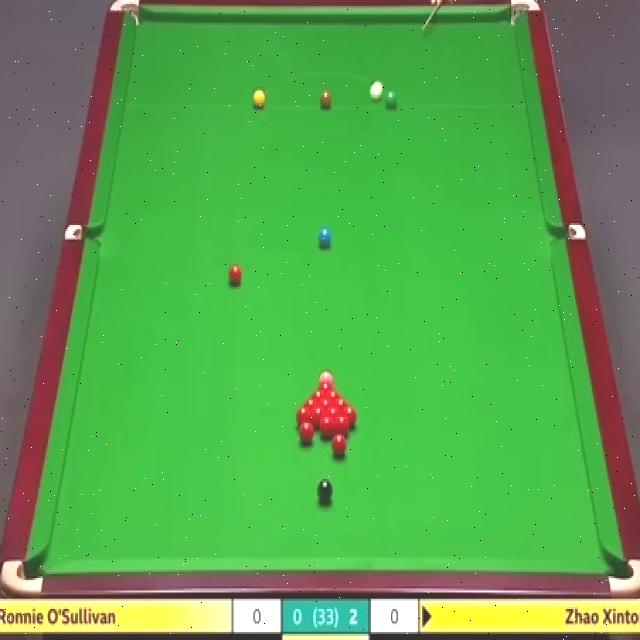black-ball: (317, 479, 332, 502)
blue-ball: (318, 226, 332, 247)
brown-ball: (319, 87, 333, 111)
green-ball: (383, 88, 398, 110)
pink-ball: (318, 370, 336, 384)
red-ball: (300, 421, 315, 443), (332, 434, 347, 456), (228, 265, 242, 287), (335, 397, 348, 420), (336, 415, 349, 438), (343, 404, 357, 424), (296, 408, 311, 426), (312, 407, 325, 427), (320, 417, 333, 437), (327, 408, 340, 428), (304, 399, 318, 407), (319, 400, 335, 407)
white-ball: (369, 78, 384, 102)
yellow-ball: (252, 90, 266, 110)
